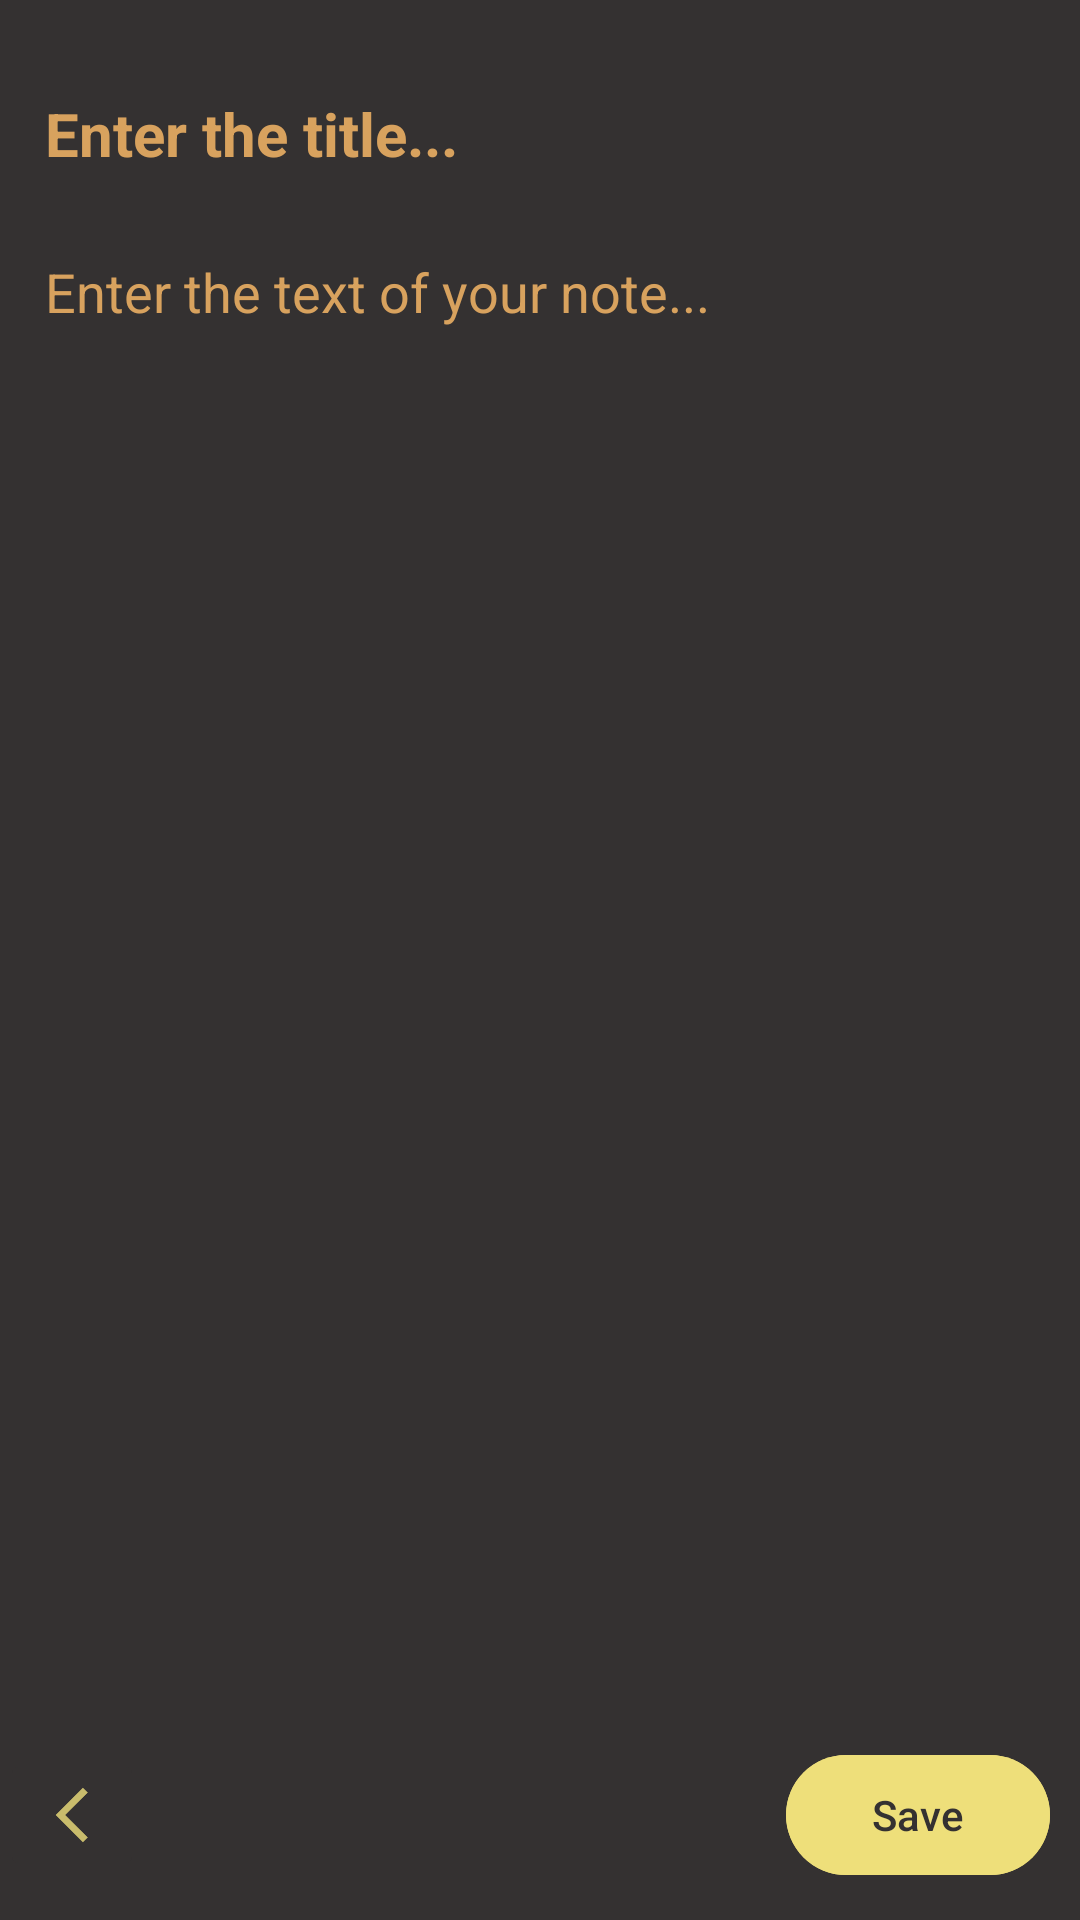

Named icons in this screenshot (1080*1920) and their centers, (x,y):
arrow back yellowy: (72,1815)
